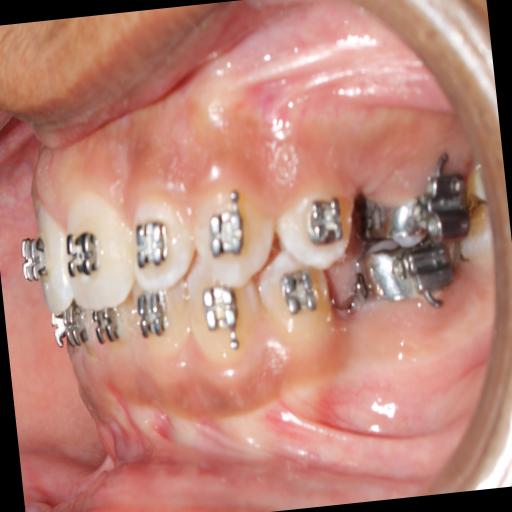correct_brace: (271, 179, 361, 273), (62, 219, 106, 288), (129, 214, 175, 273), (206, 205, 254, 260)
incorrect_brace: (124, 195, 196, 295), (306, 194, 344, 246)
